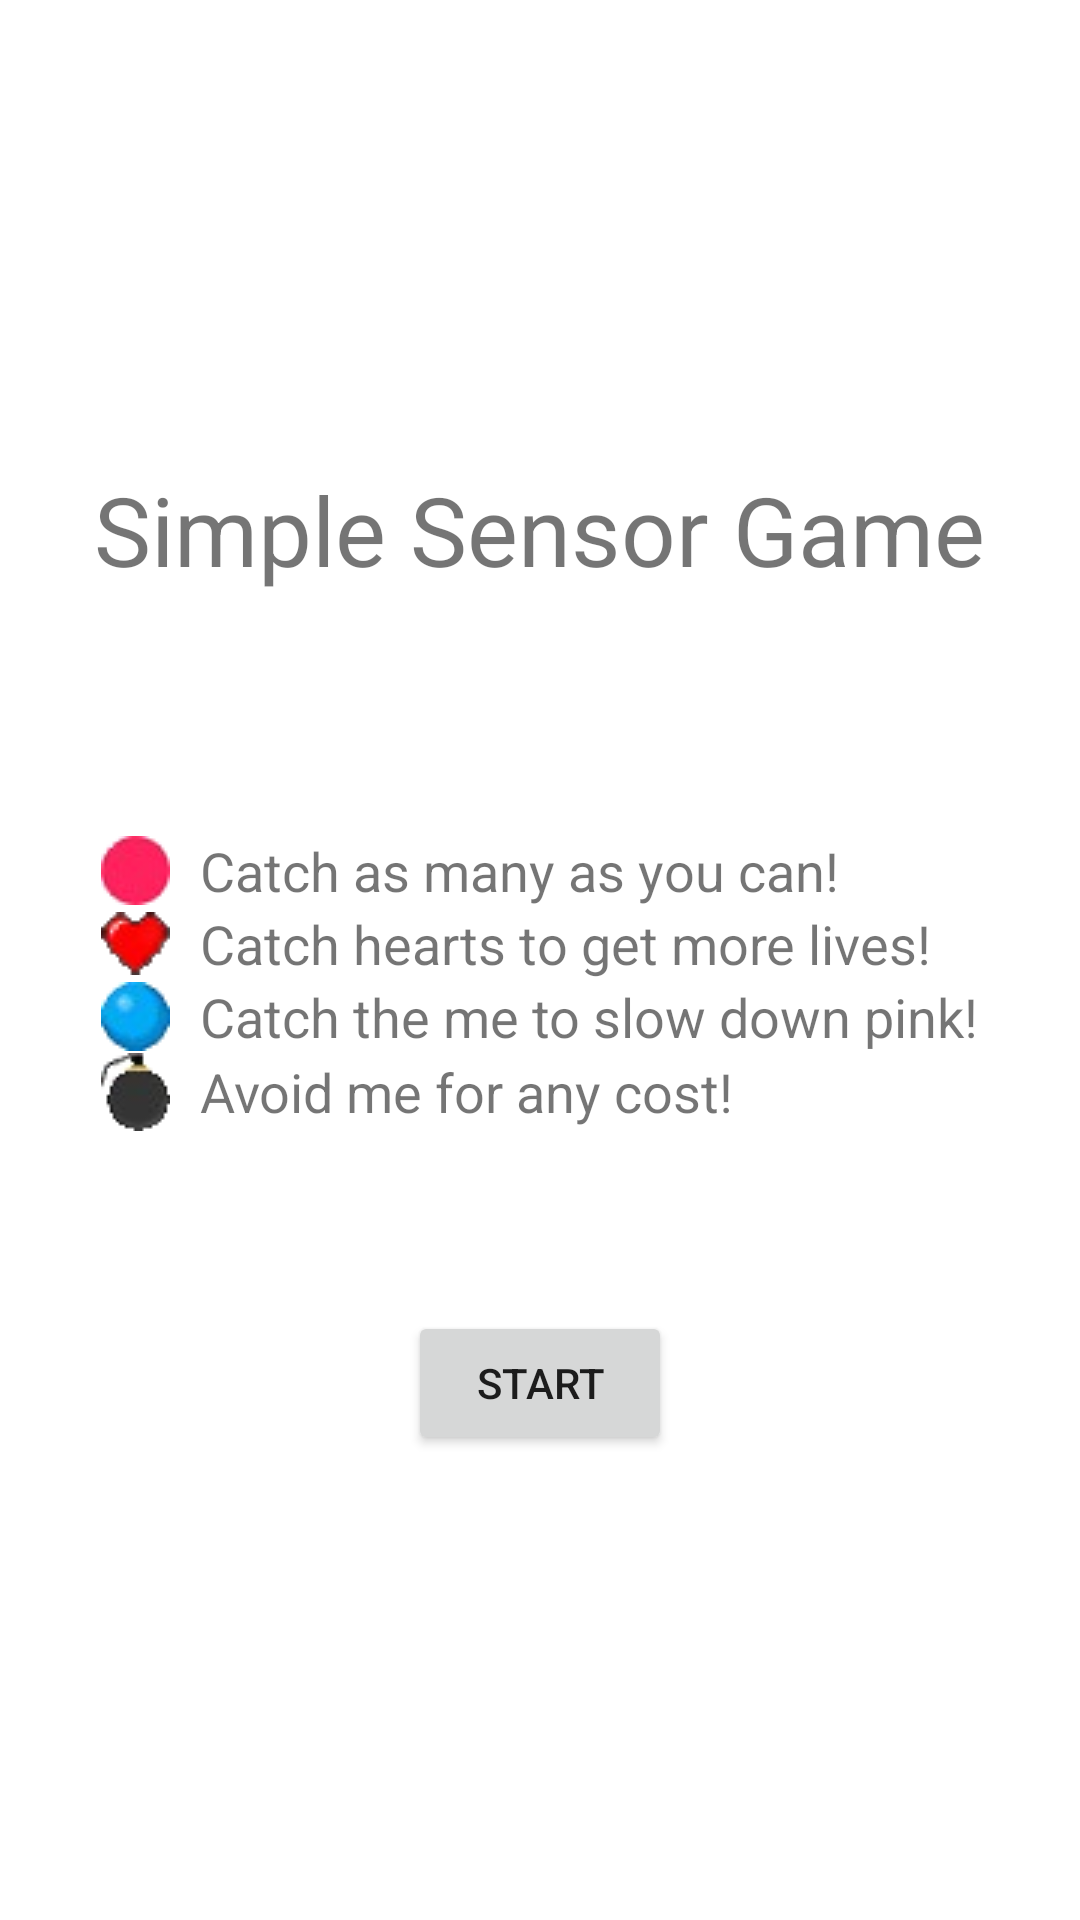

Icon bounding boxes for this 1080px×1920px phone screenshot, format (x1, y1, x2, y2):
bomb: (101, 1053, 170, 1131)
